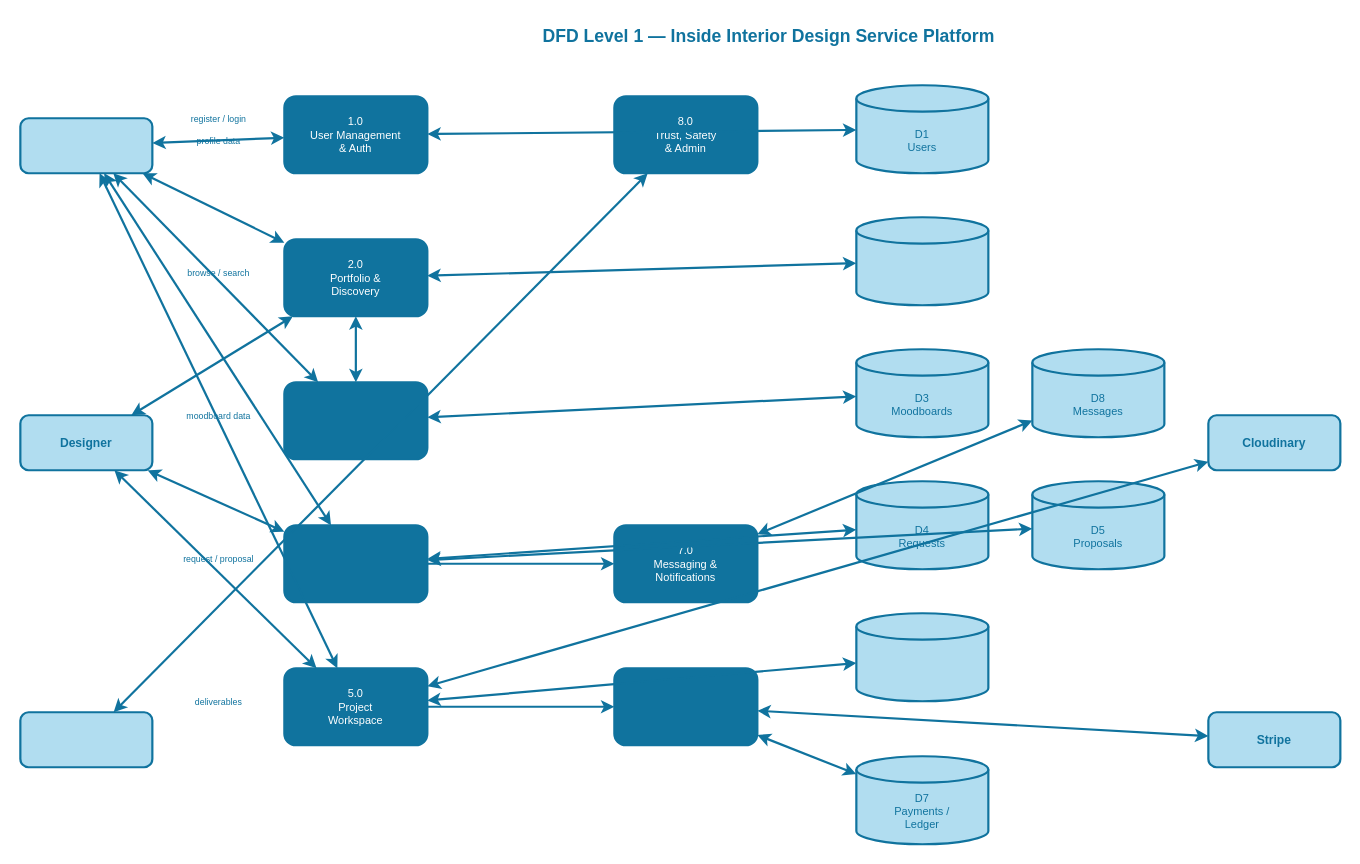
Image size: 1360x864. Some labels were removed from this diagram. Here are the shapes that lost their labels. From the top down, the box of each, then its label:
(19, 117, 153, 174): Client
(855, 216, 989, 306): D2 Portfolios
(283, 381, 428, 460): 3.0 Moodboard & Brief
(283, 524, 428, 603): 4.0 Request & Proposal
(855, 612, 989, 702): D6 Projects / Stages
(613, 667, 758, 746): 6.0 Payment Processing
(19, 711, 153, 768): Admin
